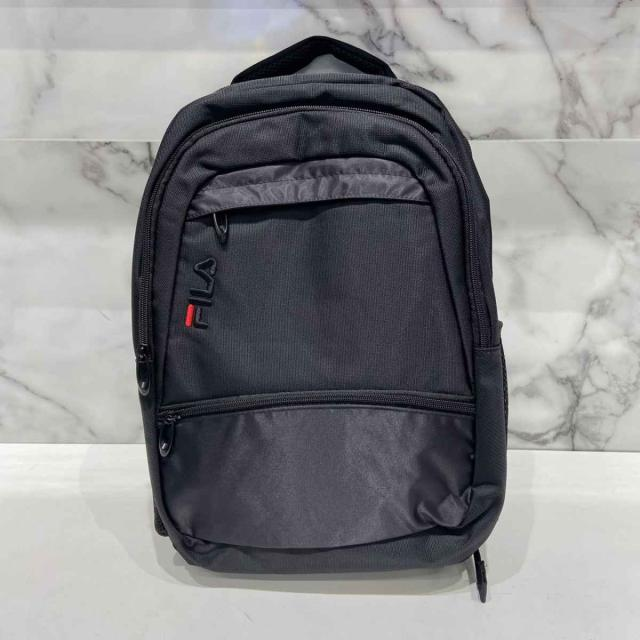Handbag: (134, 54, 510, 608)
